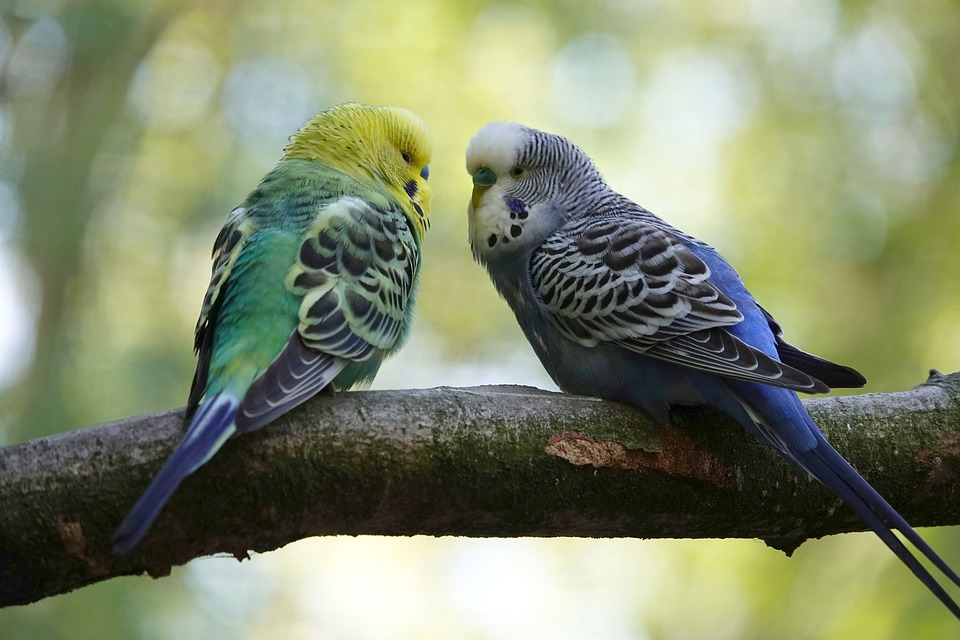budgie: (462, 119, 960, 615), (111, 104, 435, 550)
